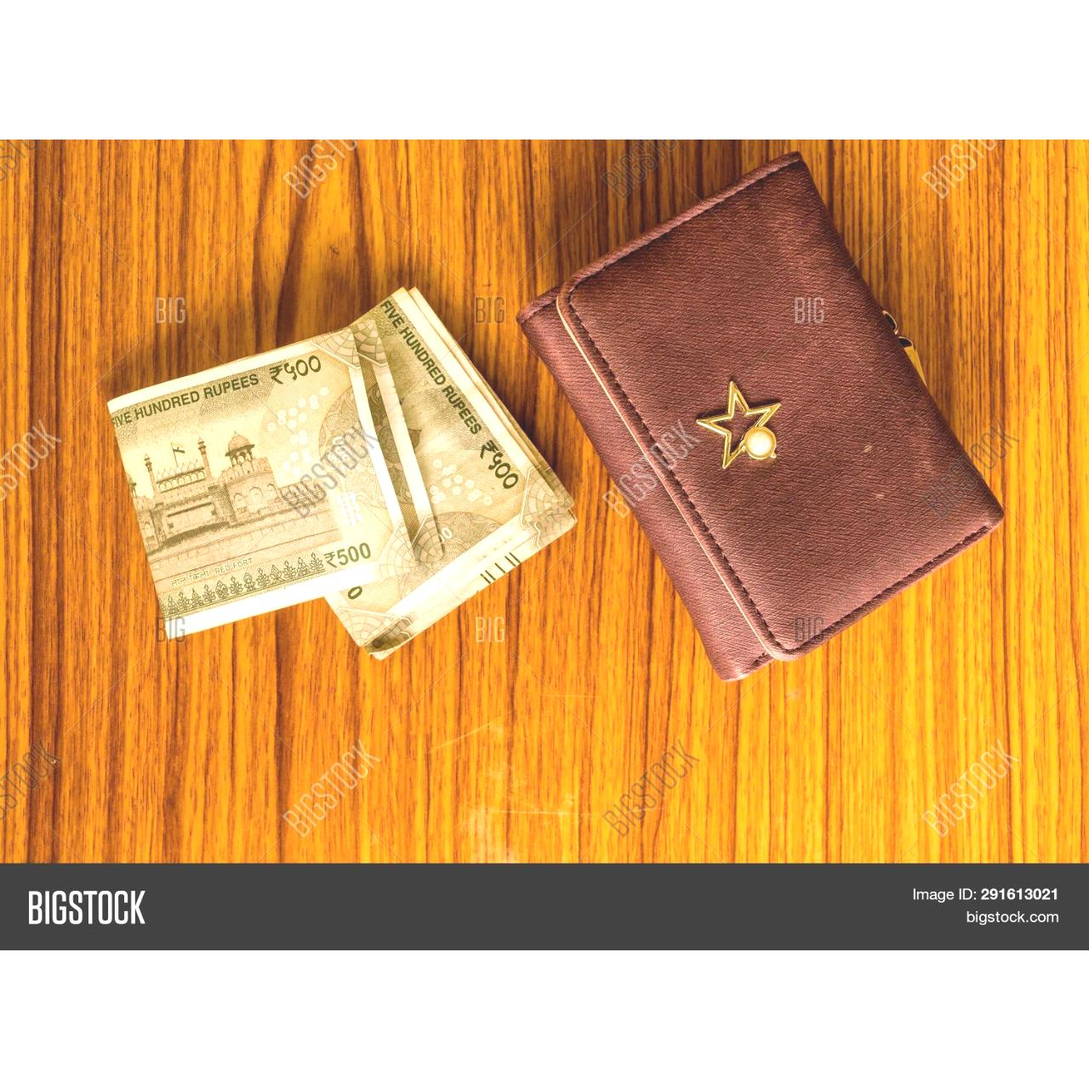wallet: (496, 180, 1018, 682)
